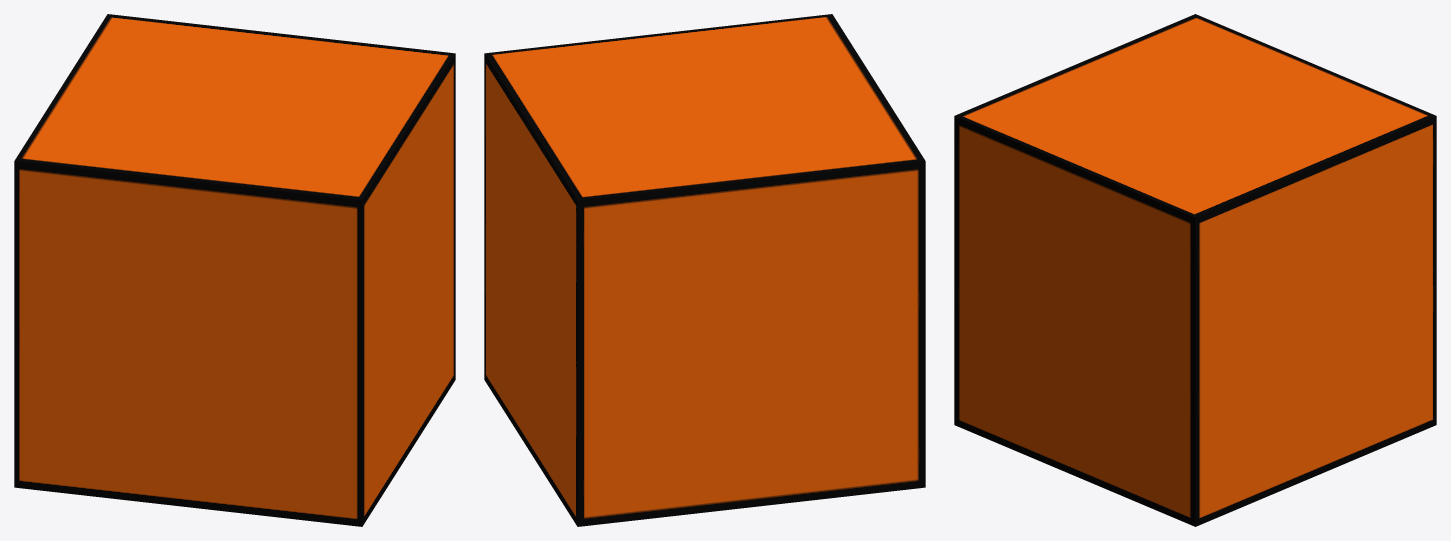
File: Lootbox.fbx
The picture shows the model from 3 angles, left to right: view 1: azimuth 30°, elevation 25°; view 2: azimuth 150°, elevation 25°; view 3: azimuth 270°, elevation 25°; orthographic projection. The views are drawn at different scales.
Parts seen in each view (by area): view 1: pCube1; view 2: pCube1; view 3: pCube1.
Boxes of the visible parts, x1,y1,x2,y2 form: pCube1: (14,14,455,526); pCube1: (484,14,925,526); pCube1: (954,14,1436,526).
Bounding box in the file's own units: 1.41 × 1 × 1.41.
1 material, 1 textured.
